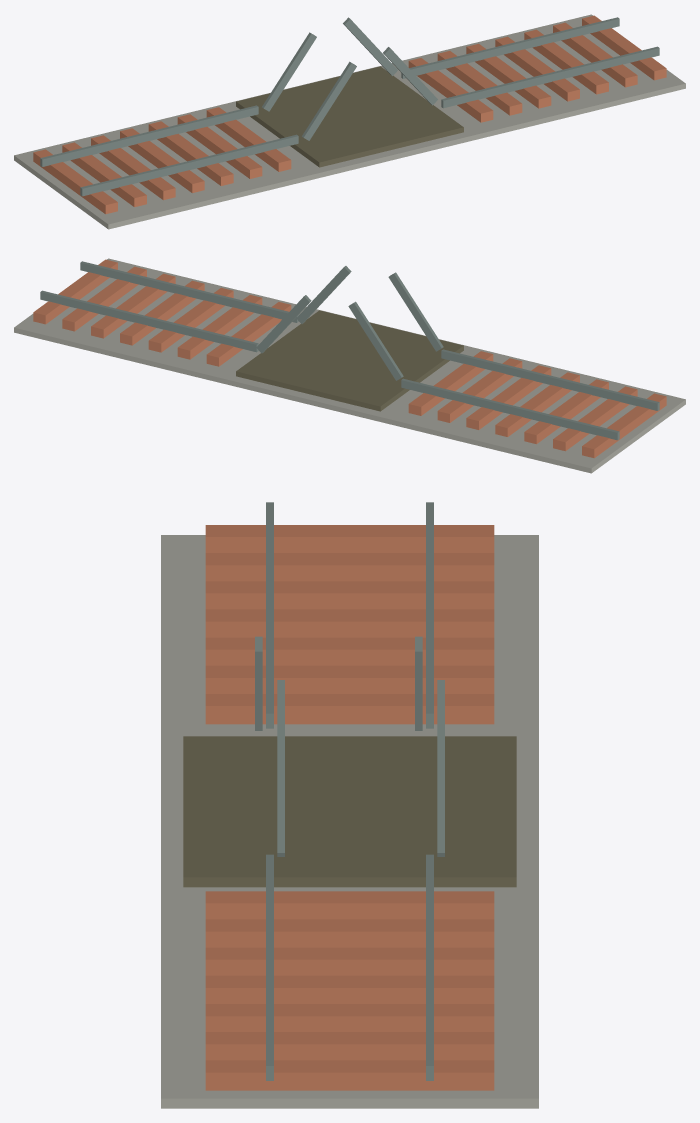
Rendered from SM_ViaRota_v0_Levantada_LOD0.fbx.
The picture shows the model from 3 angles, top to bottom: view 1: azimuth 30°, elevation 25°; view 2: azimuth 150°, elevation 25°; view 3: azimuth 270°, elevation 25°; orthographic projection. The views are drawn at different scales.
Visible parts, largest first — view 1: SM_aqui_paso_algo_v5_LOD0; view 2: SM_aqui_paso_algo_v5_LOD0; view 3: SM_aqui_paso_algo_v5_LOD0.
Boxes of the visible parts, x1,y1,x2,y2 form: SM_aqui_paso_algo_v5_LOD0: (14, 14, 685, 229); SM_aqui_paso_algo_v5_LOD0: (14, 258, 685, 473); SM_aqui_paso_algo_v5_LOD0: (161, 502, 538, 1108).
Bounding box in the file's own units: 12 × 1.67 × 3.4.
